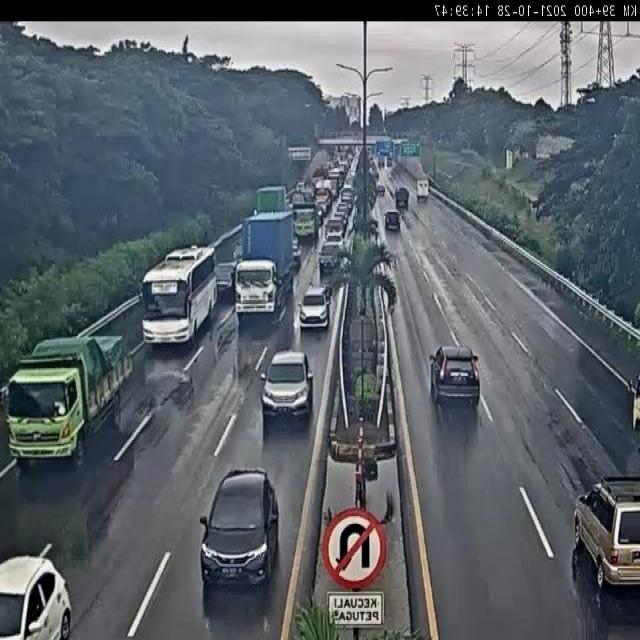Bus: (138, 245, 221, 351)
Car: (190, 469, 284, 592), (564, 483, 640, 608), (0, 557, 76, 640), (259, 354, 311, 431), (425, 348, 482, 411), (295, 284, 333, 336), (215, 259, 237, 300), (318, 246, 341, 275), (326, 222, 345, 244), (385, 212, 402, 232)
Truck: (3, 335, 128, 471), (236, 211, 296, 321), (293, 200, 318, 243), (395, 186, 410, 210), (415, 180, 430, 200)
